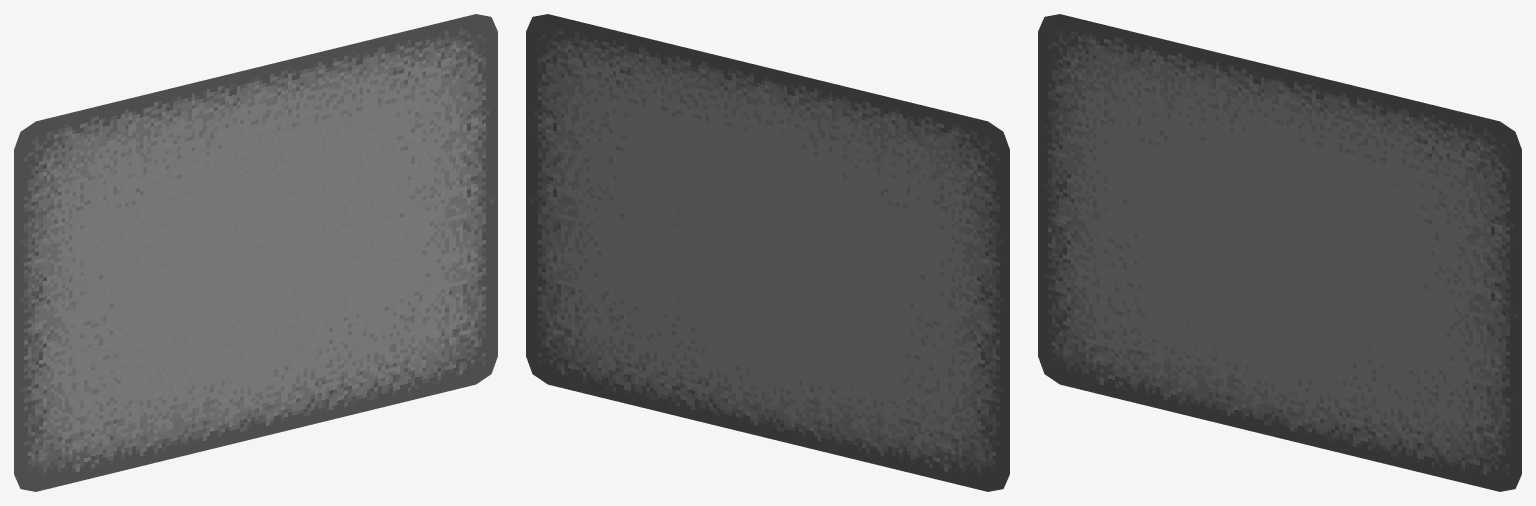
The model's file is Retro_TV_Screen.glb.
3 views of the same model, side by side, from view 1: azimuth 30°, elevation 25°; view 2: azimuth 150°, elevation 25°; view 3: azimuth 330°, elevation 25° (orthographic).
Parts seen in each view (by area): view 1: Retro_TV.013; view 2: Retro_TV.013; view 3: Retro_TV.013.
Boxes of the visible parts, x1,y1,x2,y2 form: Retro_TV.013: (14, 14, 497, 491); Retro_TV.013: (526, 14, 1009, 491); Retro_TV.013: (1038, 14, 1521, 491).
Bounding box in the file's own units: 0.6639 × 0.4858 × 0.
Materials: 1 (1 with a texture image).
